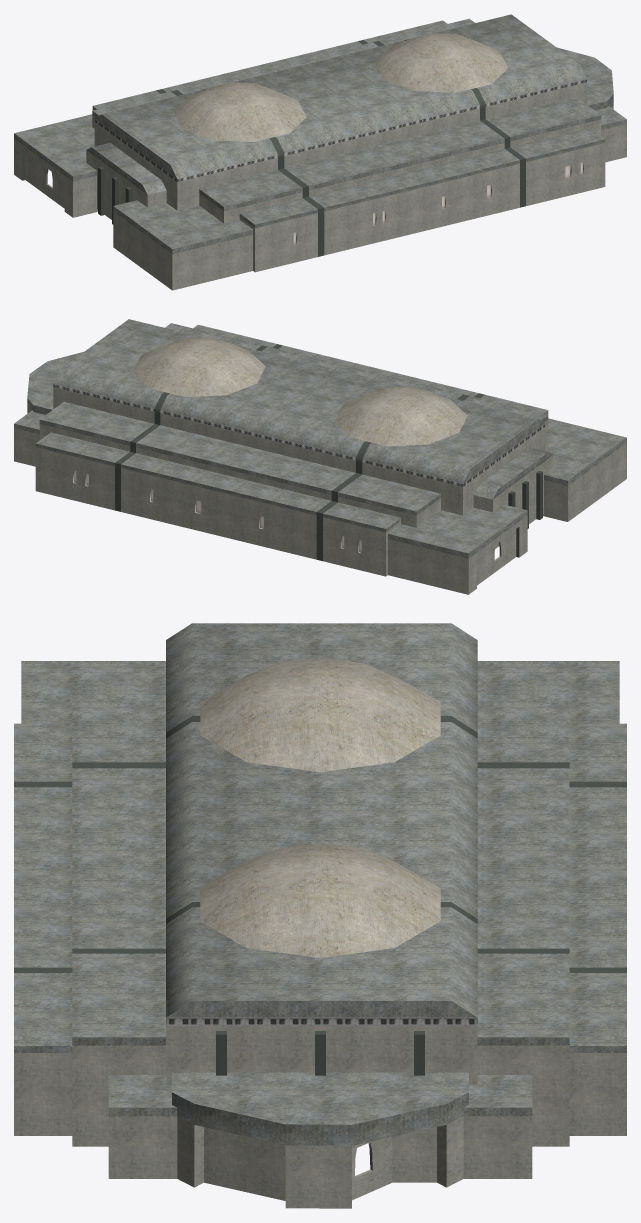
File: thm_all_cantina_r0_mesh_l2.fbx
3 views of the same model, one above another, from view 1: azimuth 30°, elevation 25°; view 2: azimuth 150°, elevation 25°; view 3: azimuth 270°, elevation 25° (orthographic). The views are drawn at different scales.
Visible parts, largest first — view 1: mesh_node; view 2: mesh_node; view 3: mesh_node.
Part boxes in pixels (x1,y1,x2,y2): mesh_node: (14,14,626,290); mesh_node: (14,319,626,594); mesh_node: (14,623,626,1208).
Size of the model in its own units: 101 by 19.97 by 55.66.
